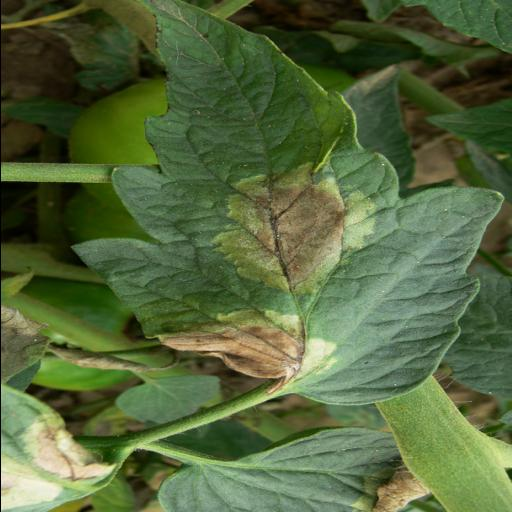disease_tomato: (66, 0, 502, 407)
